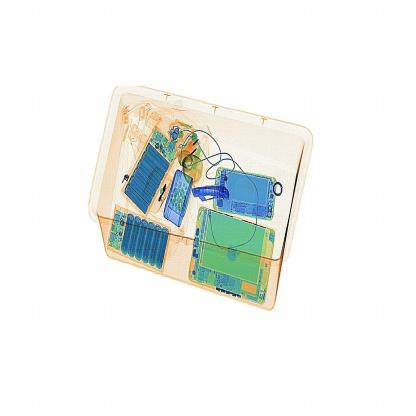knife: (187, 180, 240, 212)
